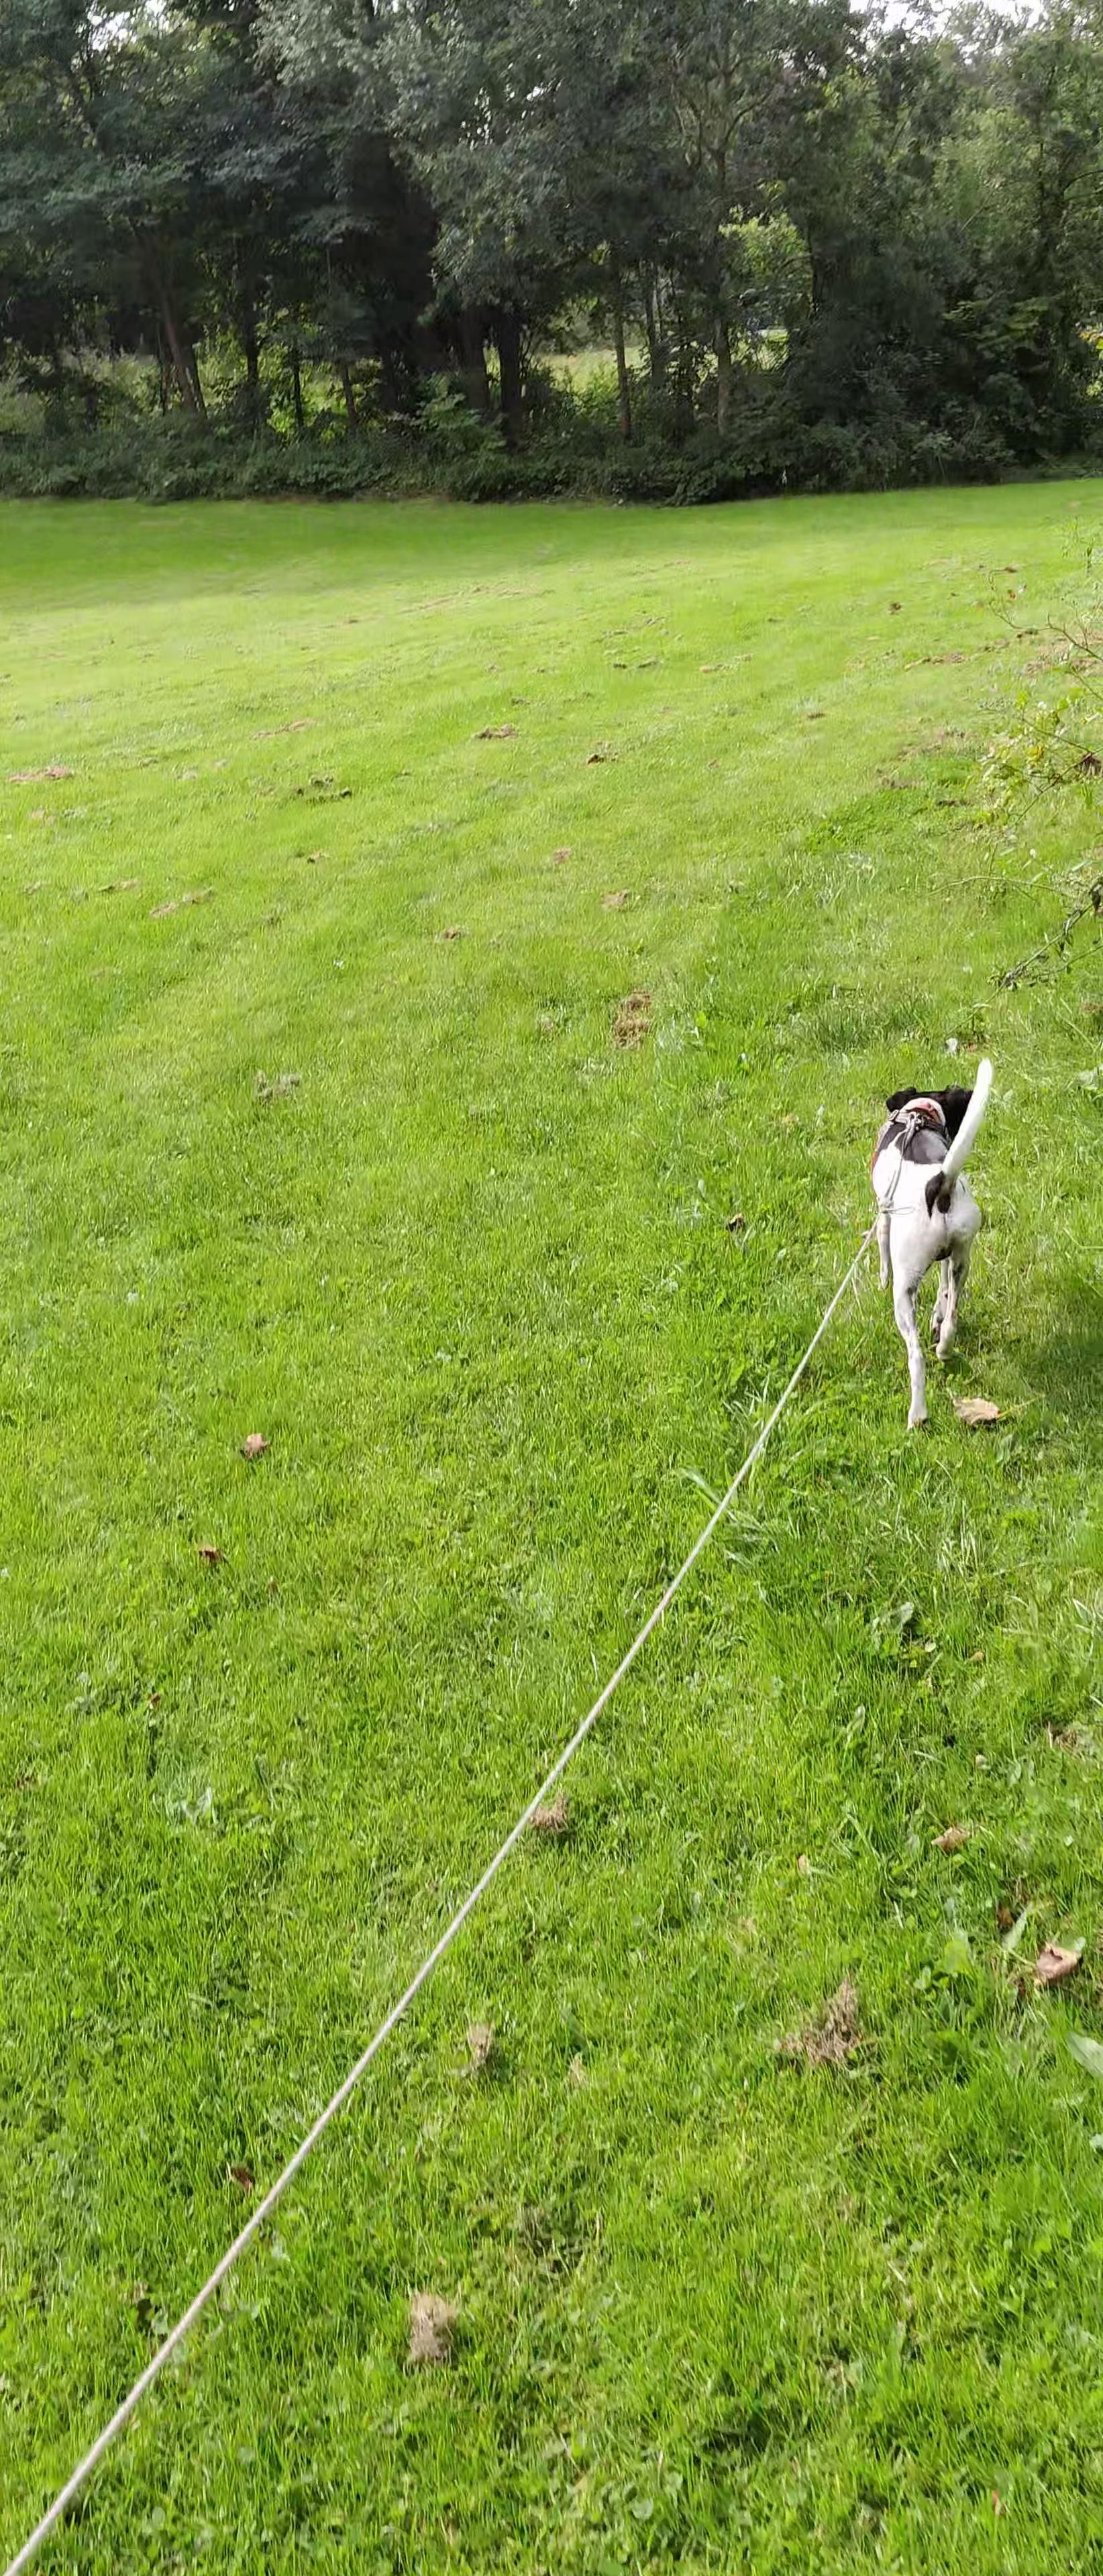Dog: (853, 1046, 1011, 1431)
